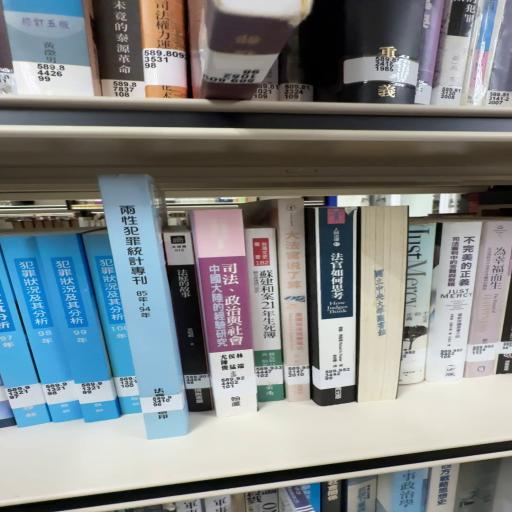backward: (357, 209, 406, 411)
book: (97, 177, 190, 446), (4, 233, 124, 432), (192, 210, 257, 419), (167, 215, 219, 420), (311, 210, 359, 412)
